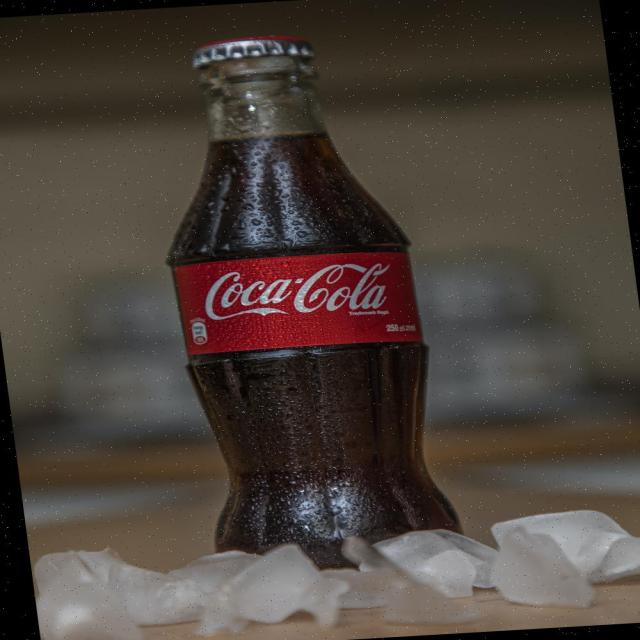coca-cola: (113, 17, 505, 599)
